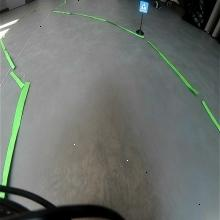crosswalk: (138, 1, 149, 14)
